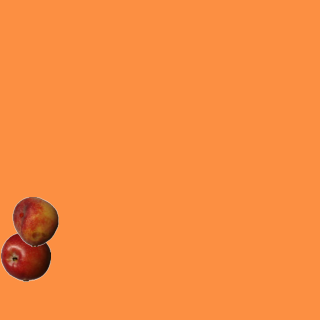Apple Braeburn: (0, 231, 50, 281)
Peach: (10, 196, 60, 246)
